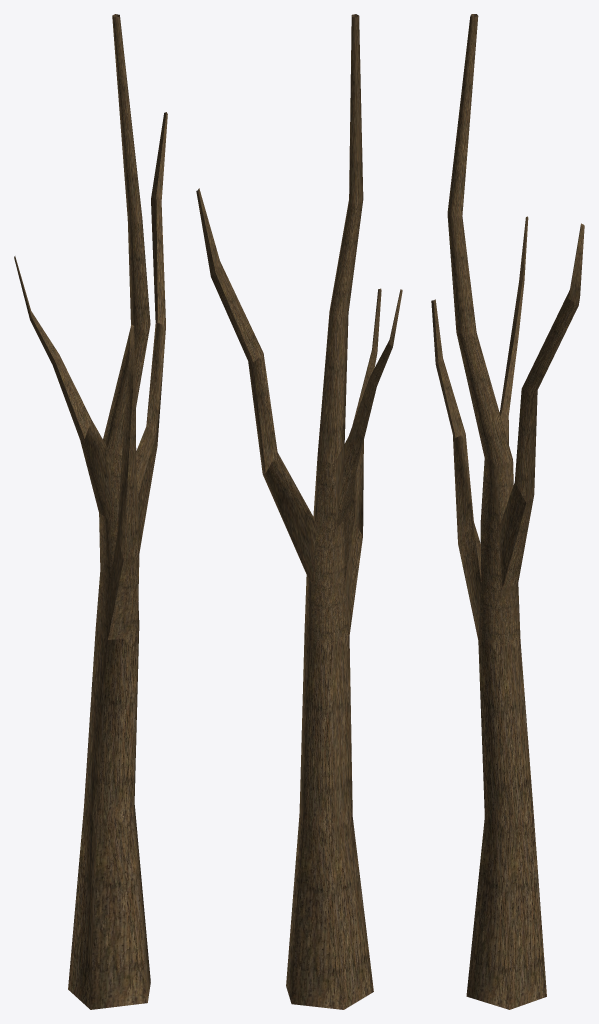
The model's file is gen_tree_trunk_only_tall.fbx.
The picture shows the model from 3 angles, left to right: view 1: azimuth 30°, elevation 25°; view 2: azimuth 150°, elevation 25°; view 3: azimuth 270°, elevation 25°; orthographic projection. The views are drawn at different scales.
Parts seen in each view (by area): view 1: lod_high; view 2: lod_high; view 3: lod_high.
Boxes of the visible parts, box(x1,y1,x2,y2) form: lod_high: box(14, 14, 167, 1009); lod_high: box(196, 14, 402, 1009); lod_high: box(431, 14, 584, 1009).
Bounding box in the file's own units: 789 × 4116 × 590.
1 material, 1 textured.
